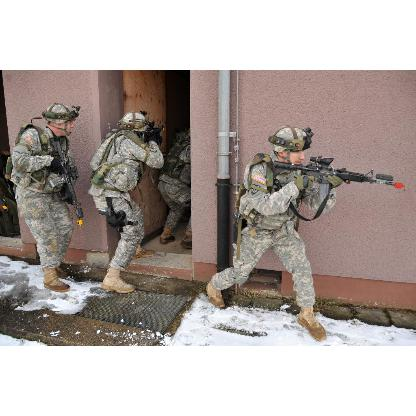gun: (274, 154, 406, 220), (48, 136, 84, 228), (140, 119, 164, 145)
